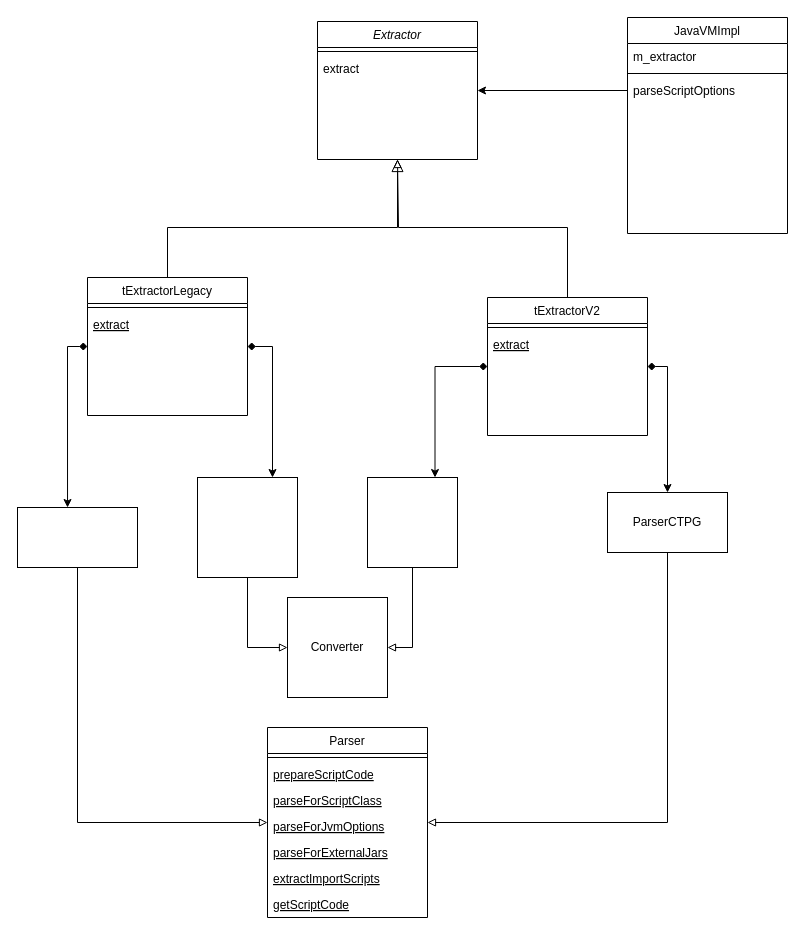
This 805x938 diagram has some shape labels left out. The shapes that lost their labels are listed below. From the top down, each one's centre as x and y in pixels, then its label:
(x=77, y=537): ParserLegacy
(x=247, y=527): ConverterLegacy
(x=412, y=522): ConverterV2
